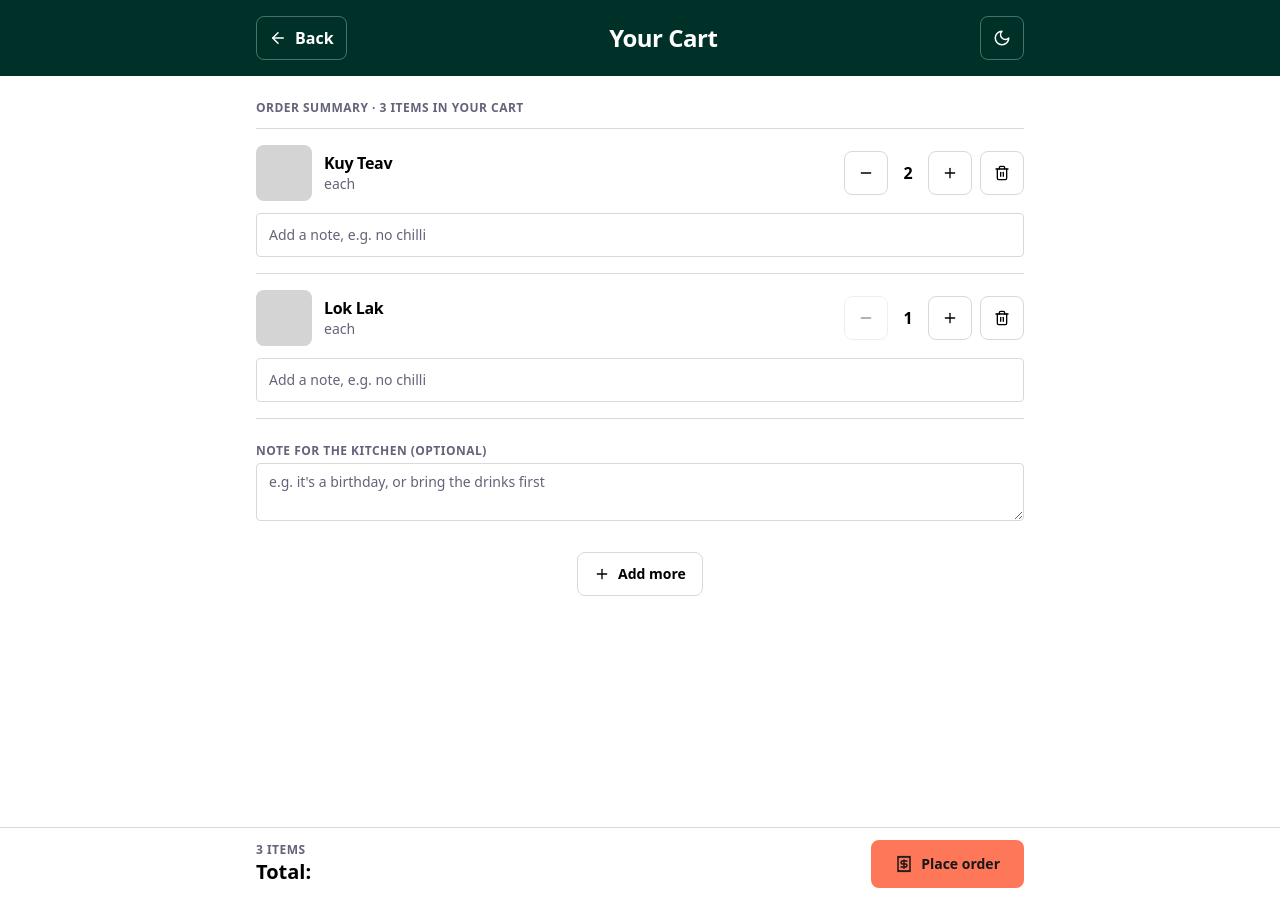
Scenario: order errors › any other error shows the server's message
Expected: the heading "Kuy Teav" is shown, x1=324 y1=152 x2=392 y2=174
Click the button "Place order" at (948, 864), box x1=871 y1=840 x2=1024 y2=888
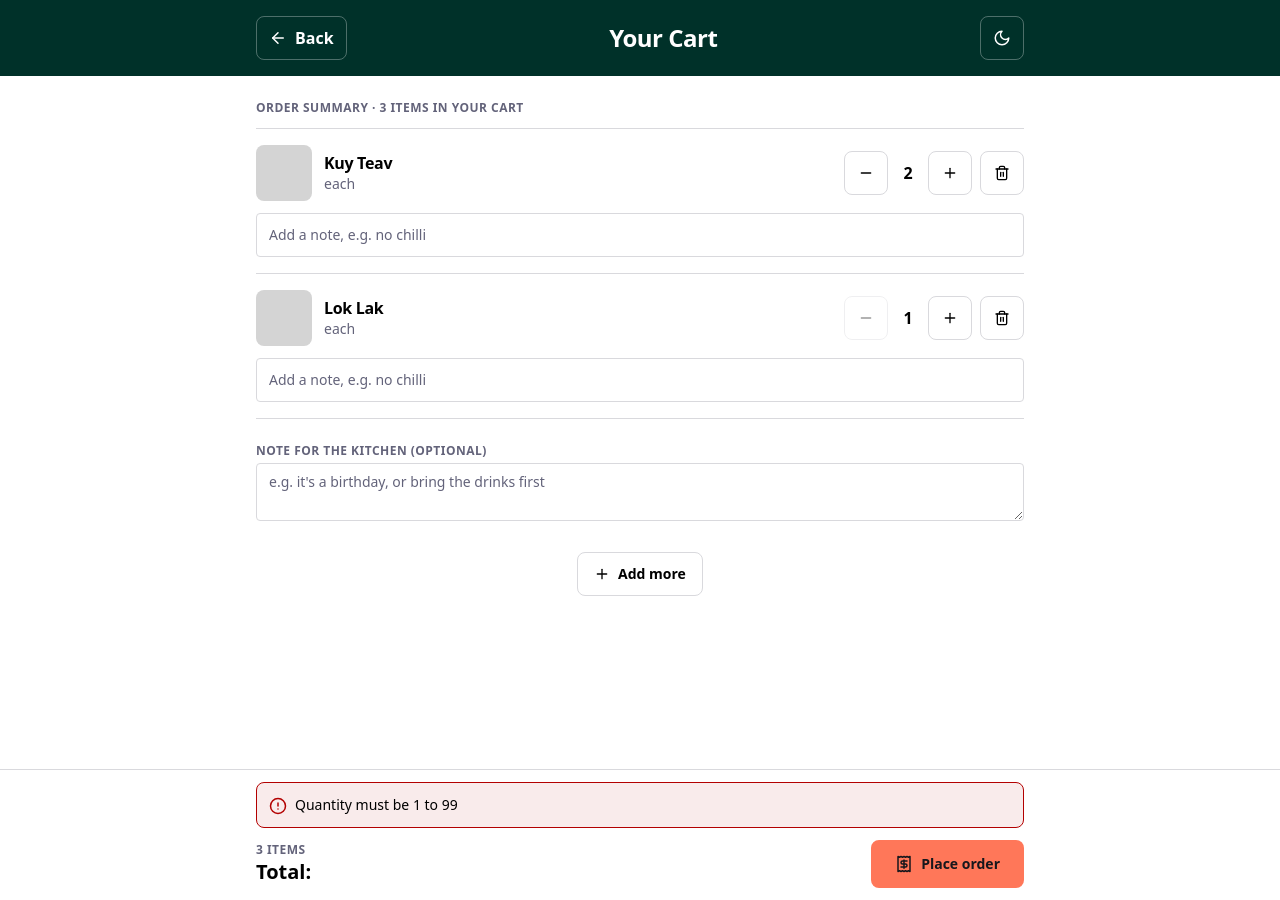
Expected: the message reads "Quantity must be 1 to 99", x1=295 y1=795 x2=458 y2=814
